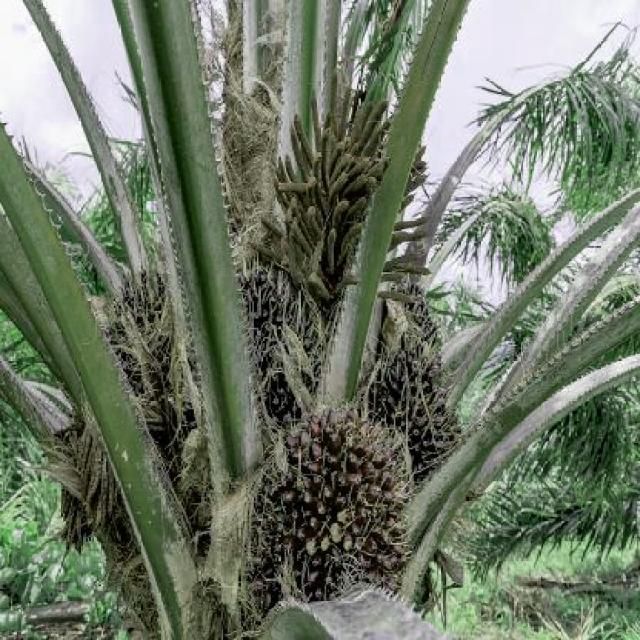palm-oil: (269, 423, 415, 599), (227, 254, 333, 422), (362, 339, 476, 488)
